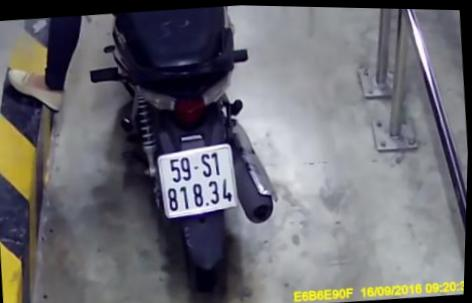LP: (154, 139, 244, 220)
